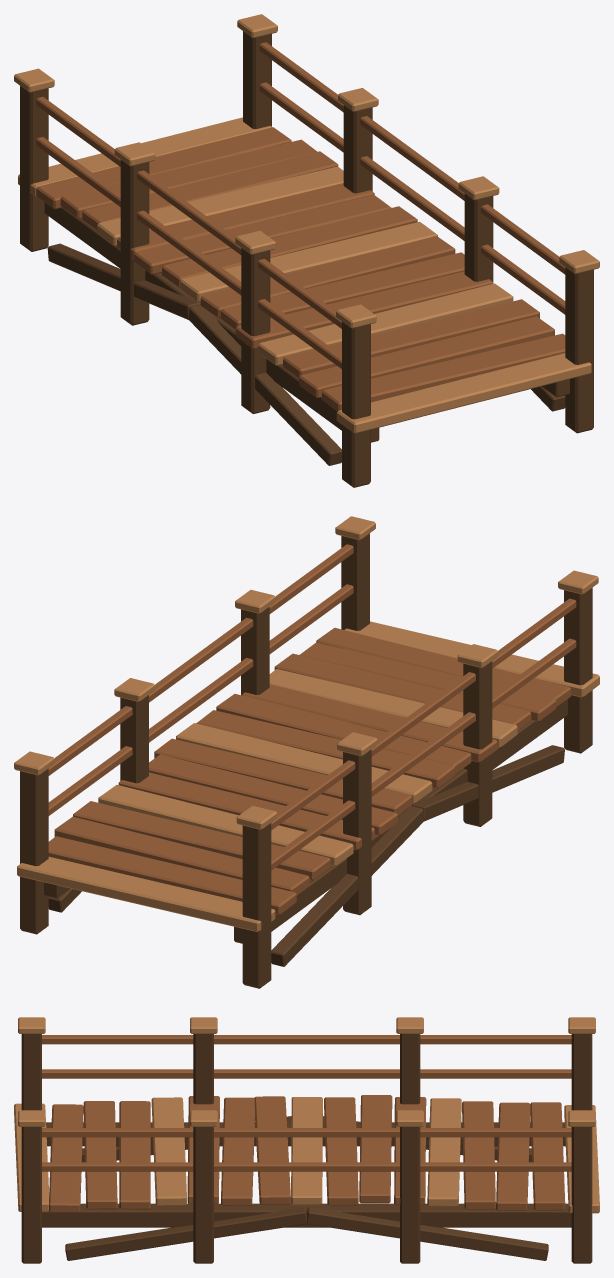
File: Bridge.glb
The picture shows the model from 3 angles, top to bottom: view 1: azimuth 30°, elevation 25°; view 2: azimuth 150°, elevation 25°; view 3: azimuth 270°, elevation 25°; orthographic projection. The views are drawn at different scales.
Visible parts, largest first — view 1: Individual bridge plank, Individual bridge plank.002, Individual bridge plank.001, Individual bridge plank.003, Individual bridge plank.004, Individual bridge plank.007, Bridge pile, Bridge pile.004, Individual bridge plank.010, Individual bridge plank.008, Individual bridge plank.006, Individual bridge plank.009 (+36 smaller); view 2: Individual bridge plank.016, Individual bridge plank.014, Individual bridge plank.015, Individual bridge plank.013, Bridge pile.003, Individual bridge plank.012, Individual bridge plank.010, Individual bridge plank.009, Individual bridge plank.008, Individual bridge plank.006, Bridge pile.007, Individual bridge plank.007 (+36 smaller); view 3: Under-deck stringer.001, Bridge structural brace.003, Bridge structural brace.002, Bridge pile.007, Individual bridge plank.015, Individual bridge plank.004, Individual bridge plank.009, Individual bridge plank.001, Individual bridge plank.002, Individual bridge plank.014, Individual bridge plank.012, Individual bridge plank.007 (+37 smaller).
Boxes of the visible parts, x1,y1,x2,y2 form: Individual bridge plank: [336, 353, 591, 433]; Individual bridge plank.002: [299, 316, 554, 398]; Individual bridge plank.001: [322, 333, 565, 411]; Individual bridge plank.003: [283, 299, 539, 378]; Individual bridge plank.004: [258, 283, 513, 365]; Individual bridge plank.007: [200, 236, 455, 318]; Bridge pile: [342, 321, 370, 487]; Bridge pile.004: [565, 267, 593, 433]; Individual bridge plank.010: [134, 194, 391, 274]; Individual bridge plank.008: [180, 221, 437, 302]; Individual bridge plank.006: [220, 252, 464, 329]; Individual bridge plank.009: [162, 206, 417, 288]; Individual bridge plank.016: [17, 856, 275, 932]; Individual bridge plank.014: [54, 816, 309, 894]; Individual bridge plank.015: [48, 836, 296, 915]; Individual bridge plank.013: [73, 801, 330, 880]; Bridge pile.003: [242, 823, 271, 988]; Individual bridge plank.012: [98, 785, 353, 866]; Individual bridge plank.010: [149, 754, 397, 835]; Individual bridge plank.009: [154, 738, 412, 815]; Individual bridge plank.008: [176, 723, 432, 803]; Individual bridge plank.006: [216, 694, 471, 773]; Bridge pile.007: [20, 768, 48, 934]; Individual bridge plank.007: [196, 710, 454, 788]; Under-deck stringer.001: [42, 1203, 571, 1227]; Bridge structural brace.003: [307, 1207, 548, 1260]; Bridge structural brace.002: [65, 1207, 306, 1260]; Bridge pile.007: [571, 1127, 592, 1263]; Individual bridge plank.015: [530, 1102, 565, 1210]; Individual bridge plank.004: [151, 1097, 186, 1205]; Individual bridge plank.009: [324, 1097, 358, 1205]; Individual bridge plank.001: [49, 1104, 83, 1212]; Individual bridge plank.002: [83, 1101, 117, 1209]; Individual bridge plank.014: [496, 1102, 530, 1210]; Individual bridge plank.012: [427, 1098, 461, 1206]; Individual bridge plank.007: [254, 1096, 290, 1204].
Bounding box in the file's own units: 7.15 × 4.66 × 17.04.
